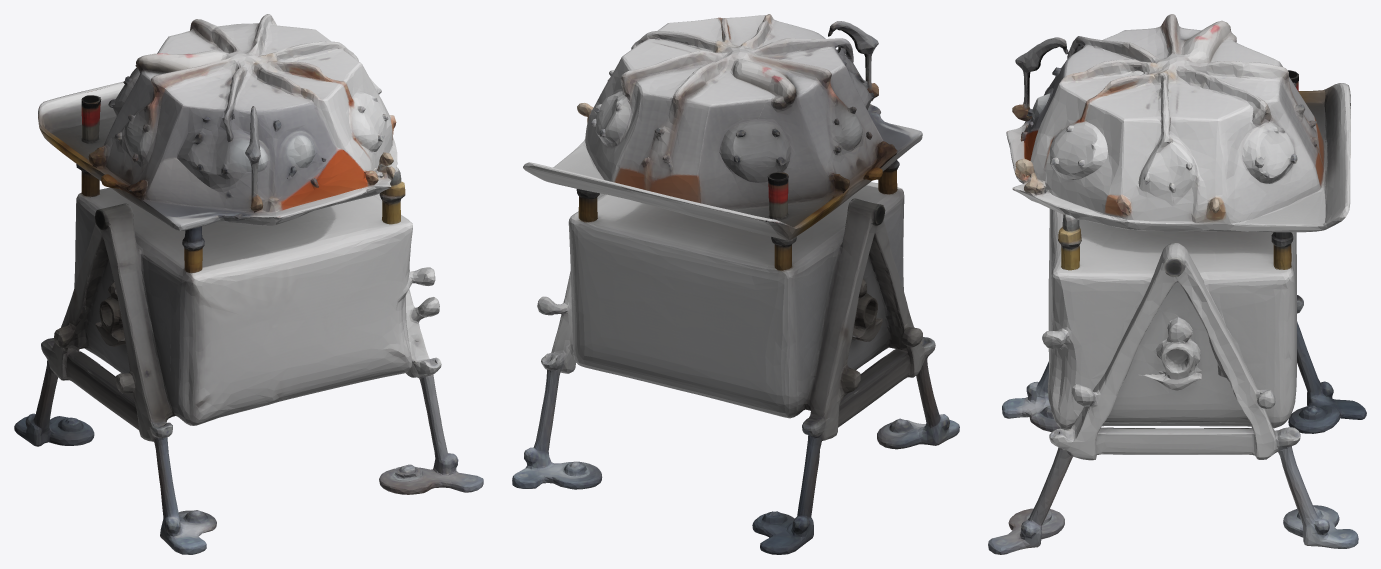
Rendered from apollo 11 9.glb.
3 renders of one model, left to right at view 1: azimuth 30°, elevation 25°; view 2: azimuth 150°, elevation 25°; view 3: azimuth 270°, elevation 25°, orthographic. The views are drawn at different scales.
Parts seen in each view (by area): view 1: world; view 2: world; view 3: world.
Part boxes in pixels (left/top/right/bottom): world: left=14, top=14, right=483, bottom=554; world: left=512, top=14, right=959, bottom=554; world: left=988, top=14, right=1366, bottom=554.
Bounding box in the file's own units: 0.7886 × 0.9925 × 0.8072.
1 material, 1 textured.
